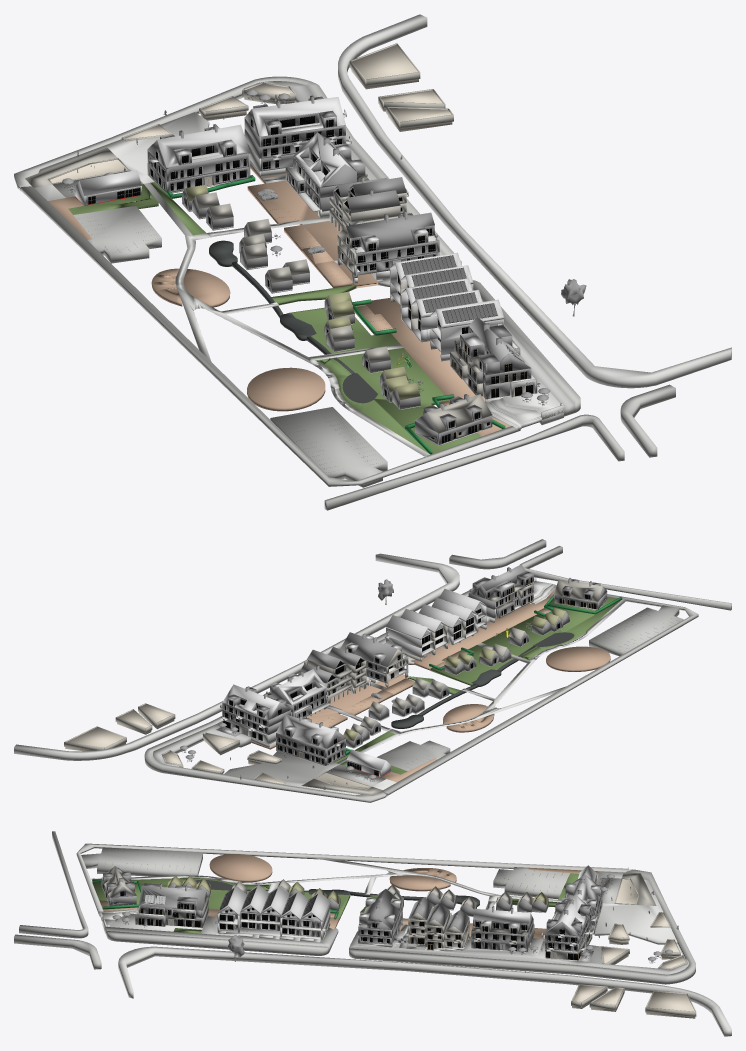
The model's file is asset.glb.
3 views of the same model, one above another, from view 1: azimuth 30°, elevation 25°; view 2: azimuth 150°, elevation 25°; view 3: azimuth 270°, elevation 25° (orthographic). The views are drawn at different scales.
Parts seen in each view (by area): view 1: CentrumLp; view 2: CentrumLp; view 3: CentrumLp.
Boxes of the visible parts, bbox=[...] form: CentrumLp: bbox=[14, 14, 731, 510]; CentrumLp: bbox=[14, 539, 731, 802]; CentrumLp: bbox=[14, 831, 731, 1036].
Size of the model in its own units: 1636 by 197 by 2493.
